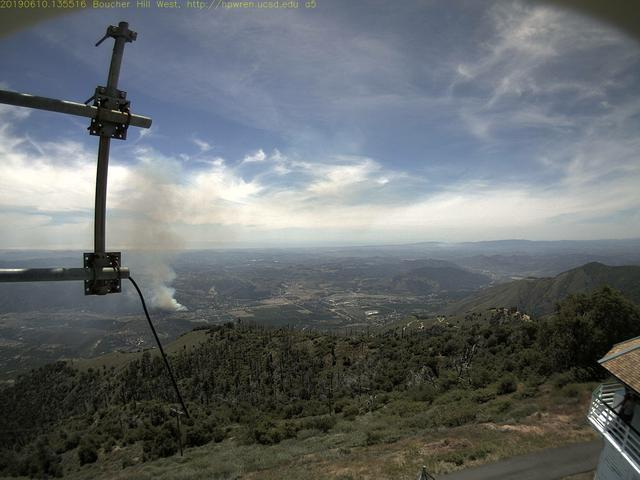Smoke: (111, 161, 191, 312)
